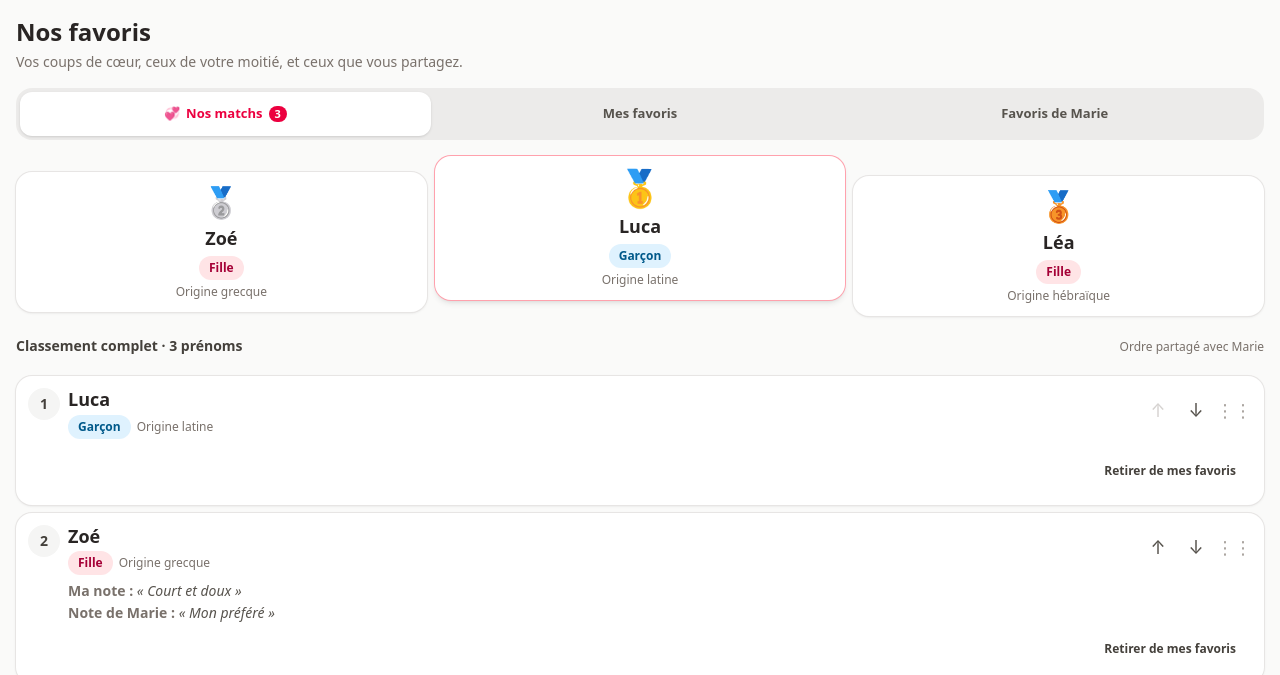
Scenario: MatchesPage › lists my favourites newest first with match badges and a note editor
This screenshot has width=1280, height=675.
Expected: the list named "Podium" is shown, [16,156,1264,316]
Click the tab "Mes favoris" at x=640, y=114, box [435,92,845,136]
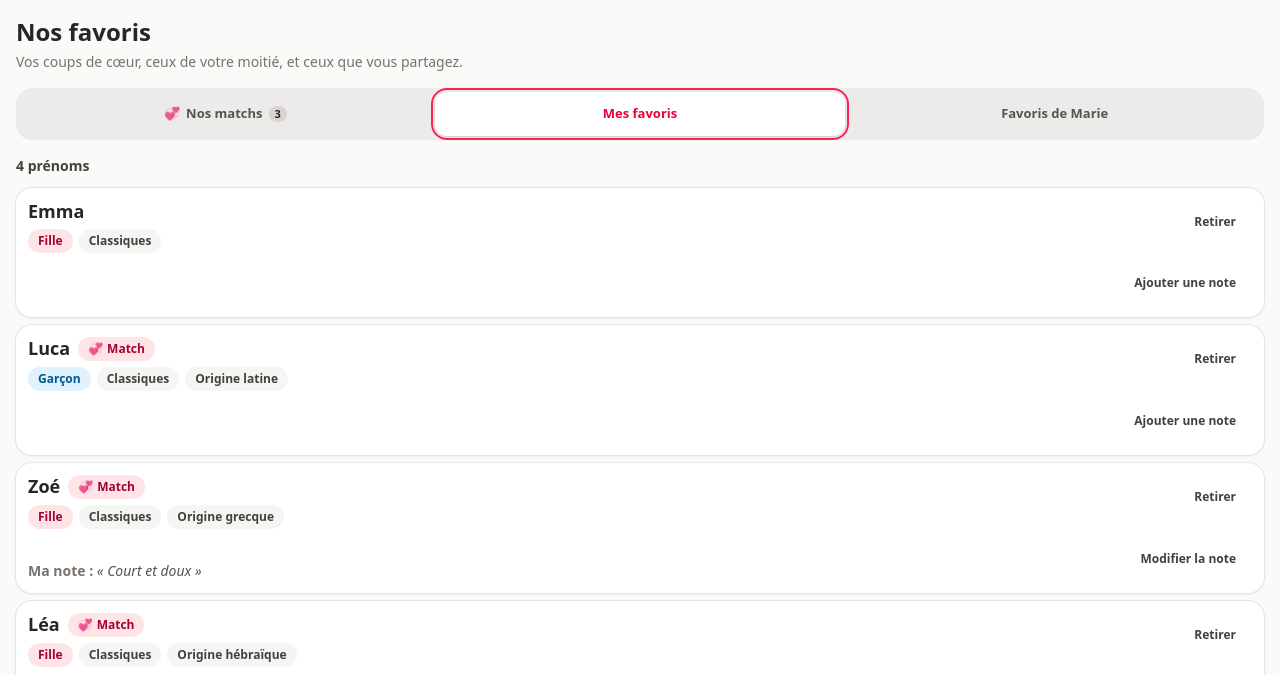
Now the text "4 prénoms" is shown, box [16,156,89,175]
Now the text "Match" is shown 3 times, box [78,336,155,360]; [68,474,145,498]; [68,612,144,636]
Click the button with aria-label "Ajouter une note sur Emma" at x=1185, y=282, box [1118,260,1252,304]
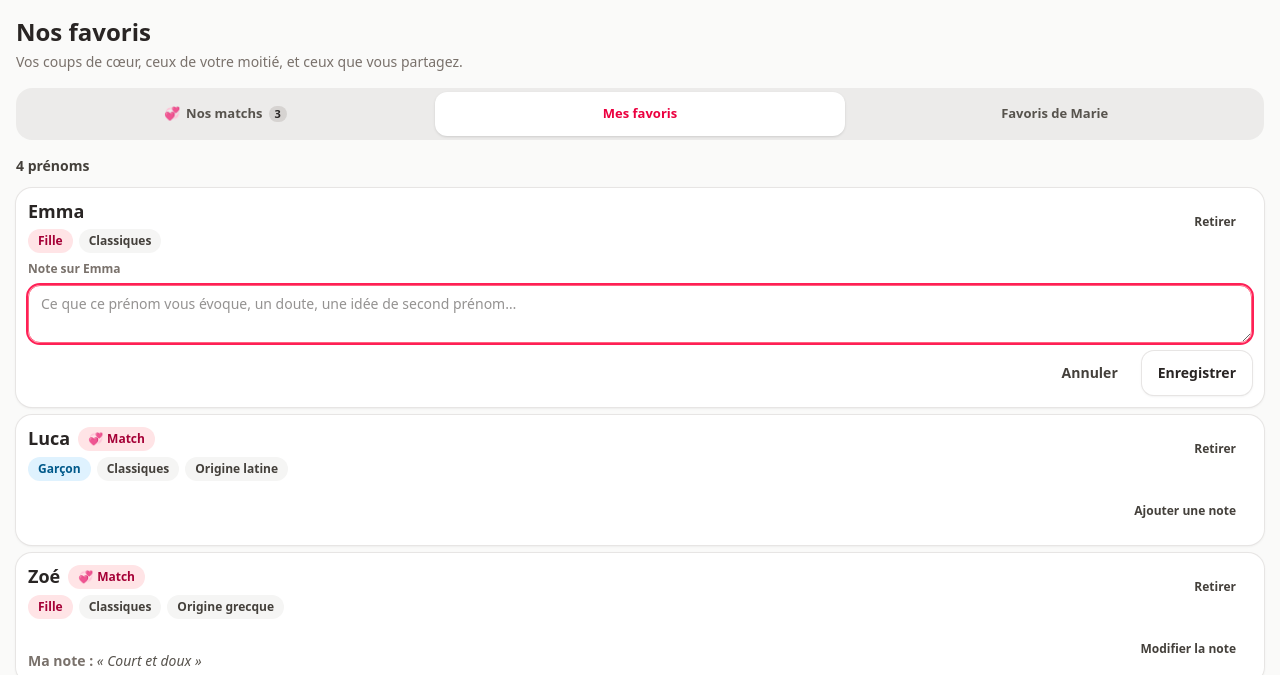
Type "  Prénom de ma grand-mère  " into the text box labelled "Note sur Emma" at x=640, y=314, box [28,284,1252,342]
Click the button "Enregistrer" at x=1197, y=372, box [1142,350,1252,394]
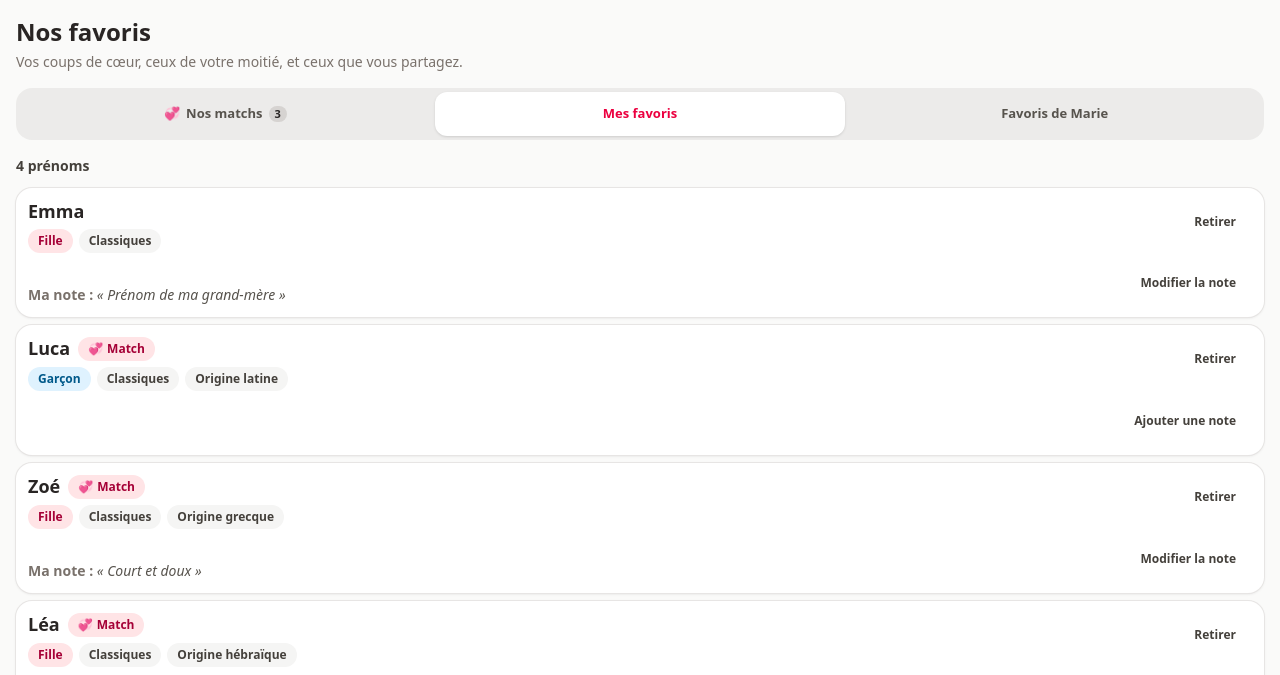
Now the text "« Prénom de ma grand-mère »" is shown, box [97,284,286,304]
# Clearing the note stores null.
Click the button with aria-label "Modifier la note sur Emma" at x=1188, y=282, box [1124,260,1252,304]
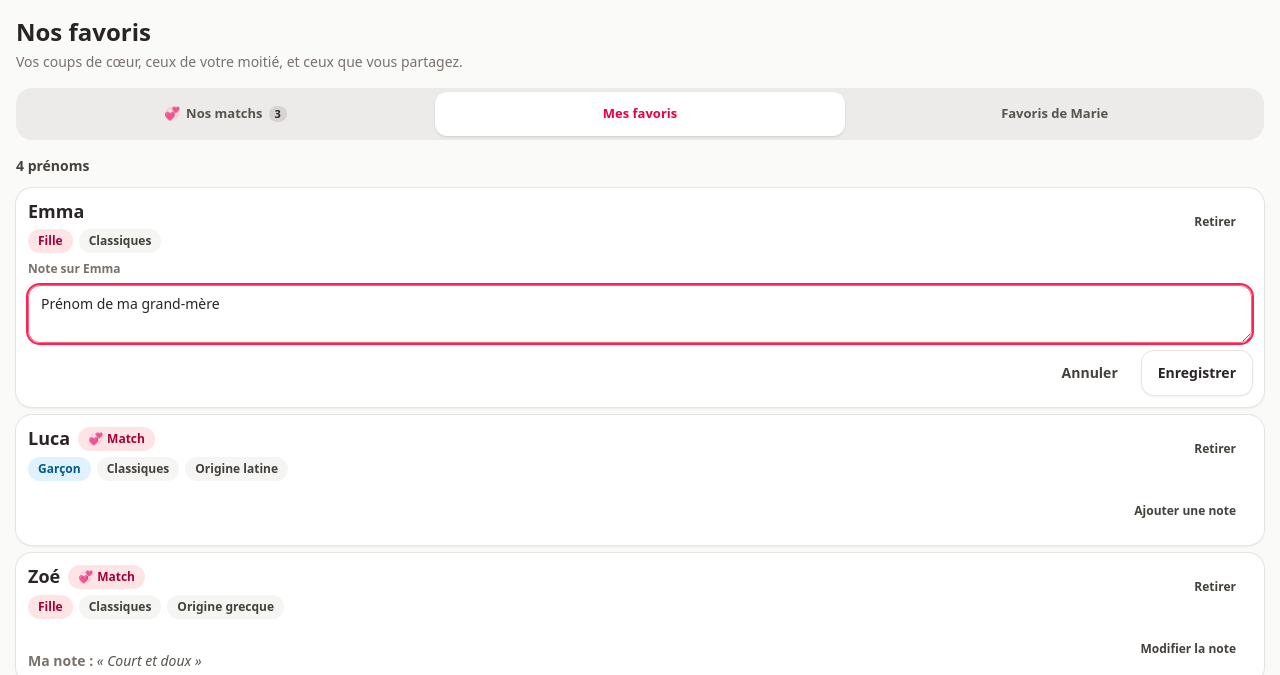
Clear the text box labelled "Note sur Emma" at x=640, y=314, box [28,284,1252,342]
Click the button "Enregistrer" at x=1197, y=372, box [1142,350,1252,394]
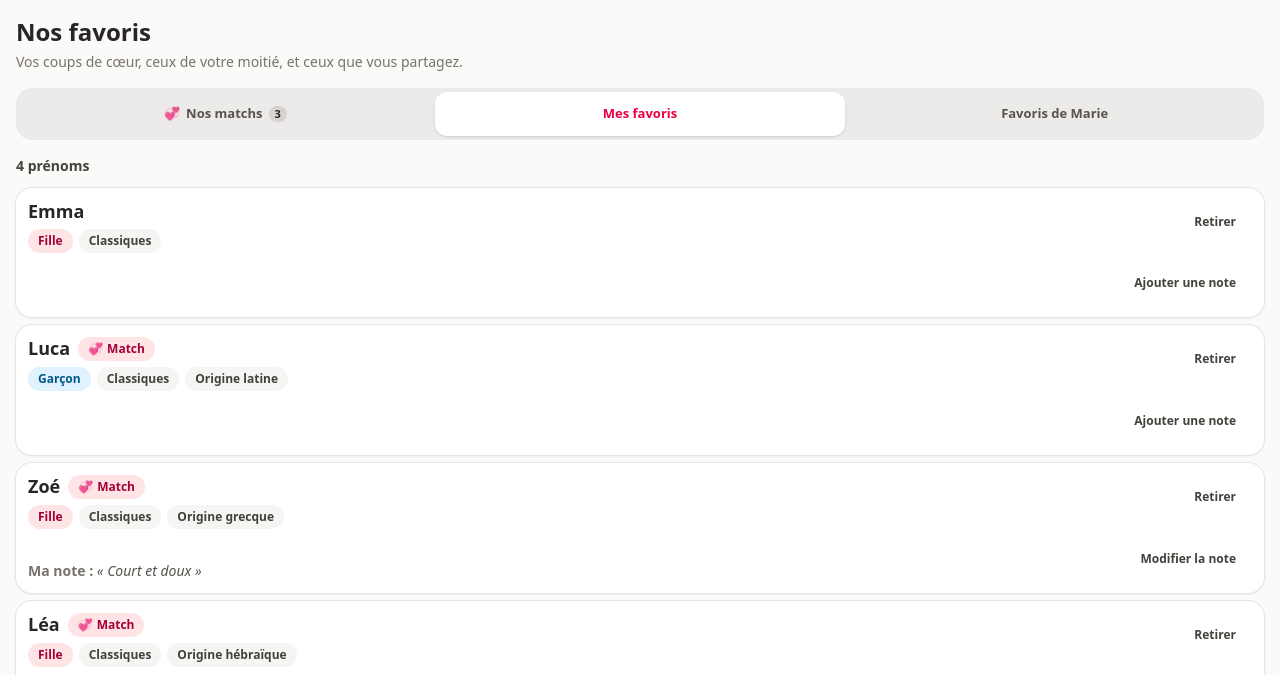
Click the button "Retirer" in the row of "Emma" at x=1215, y=222, box [1178,200,1252,244]
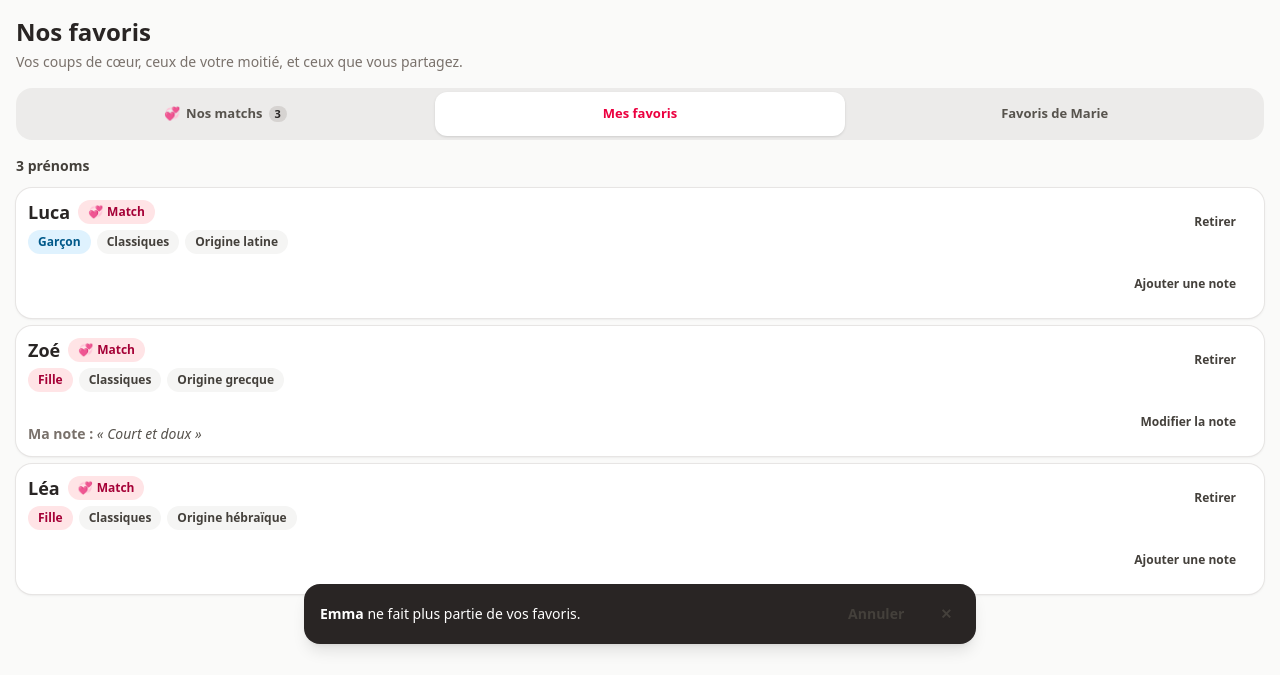
Now the text "3 prénoms" is shown, box [16,156,89,175]
